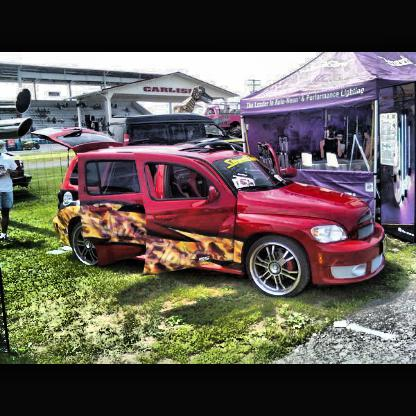Chevrolet HHR SS 2010: (32, 128, 389, 299)
